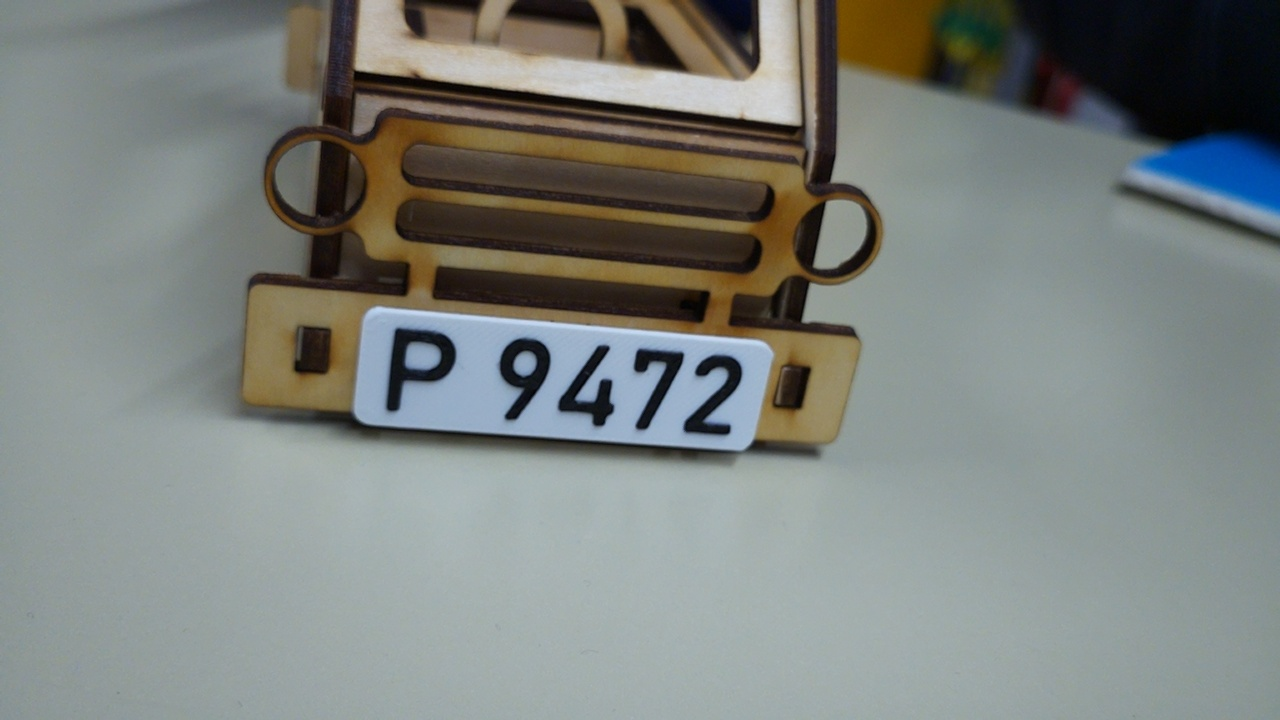license_plate: (352, 305, 777, 455)
